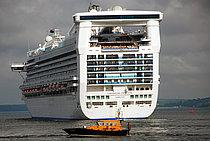Ship: (6, 3, 168, 123)
